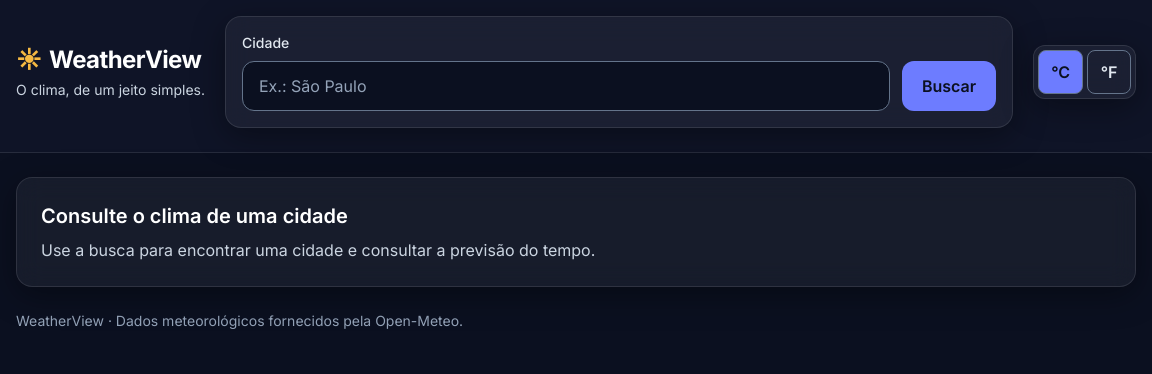
Test case: App › não muda de estado ao tentar enviar um termo vazio
Click the button "Buscar": x=949, y=86 [902,61,996,111]
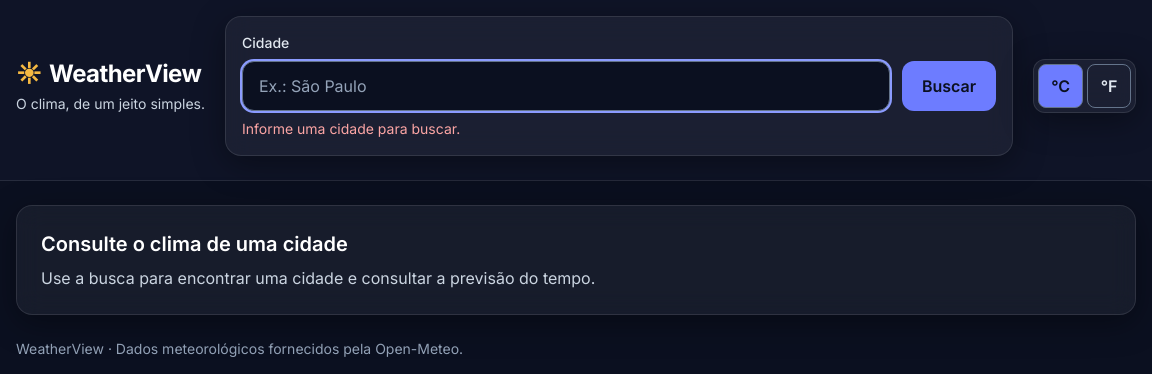
Expected: the element named "Previsão do tempo" shows "Consulte o clima de uma cidade", [41,232,348,256]
Expected: the message "Informe uma cidade para buscar." is shown, [242,120,460,137]
